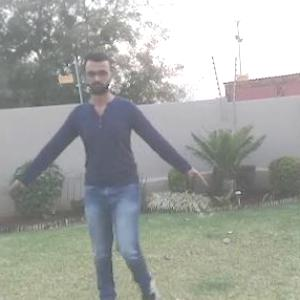land: (21, 61, 198, 299)
